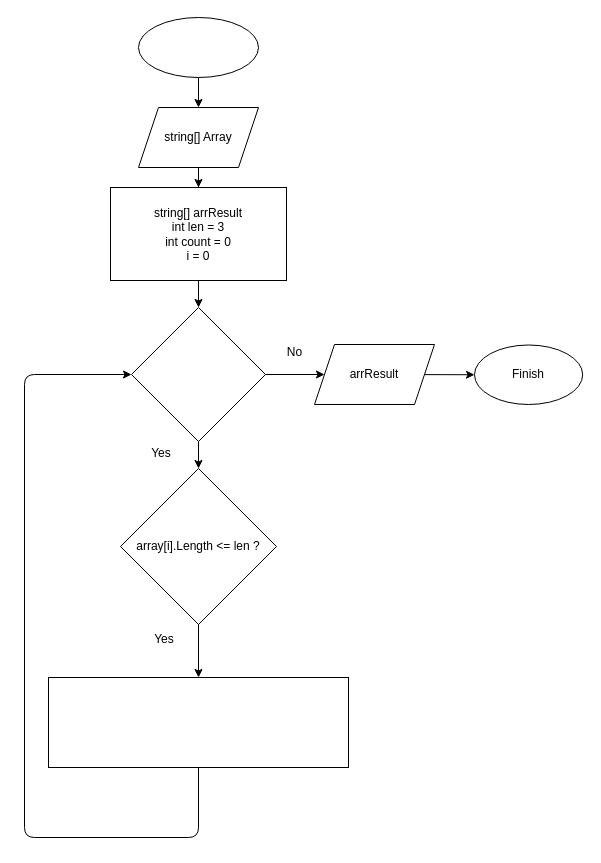
This 601x863 diagram has some shape labels left out. Each missing label, with the box of its shape:
arrResult[count] = array[i] count++ i++: (48, 676, 348, 768)
i < array.Length ?: (130, 306, 266, 442)
Start: (138, 16, 258, 78)
